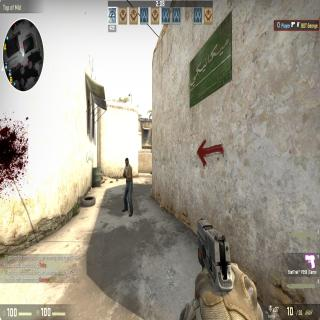T-Body: (121, 157, 132, 215)
T-Head: (125, 158, 128, 167)
